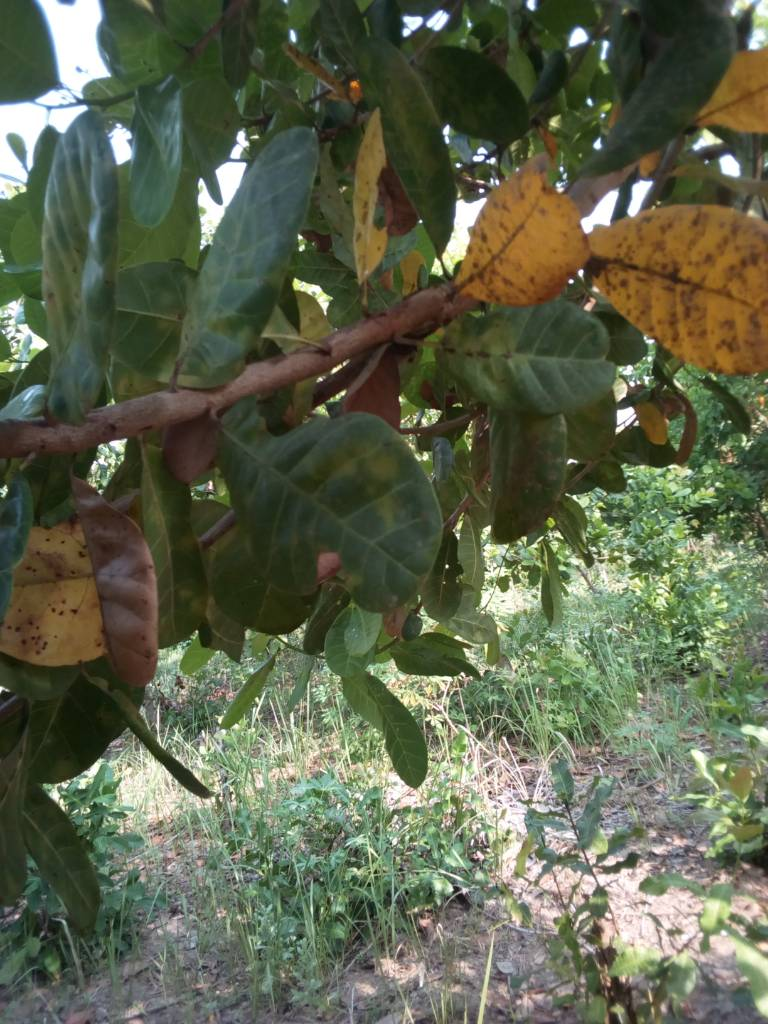Bactériose: (580, 203, 768, 372), (449, 153, 594, 299)
